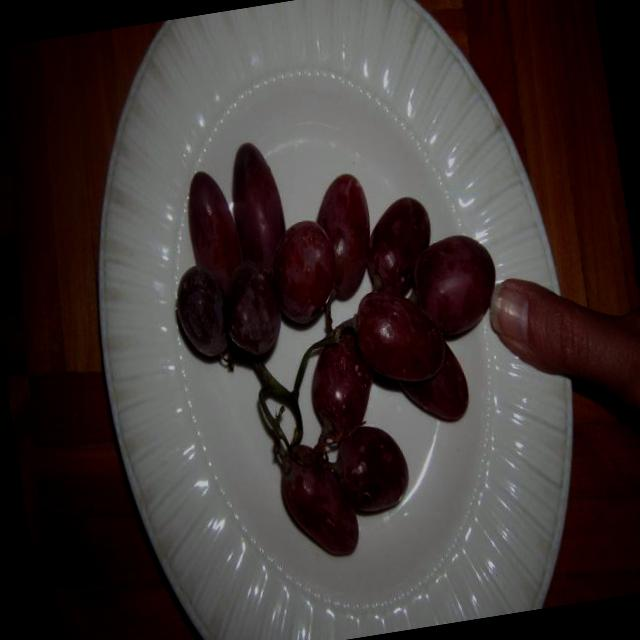Finger: (480, 262, 613, 404)
Grapes: (139, 100, 525, 593)
